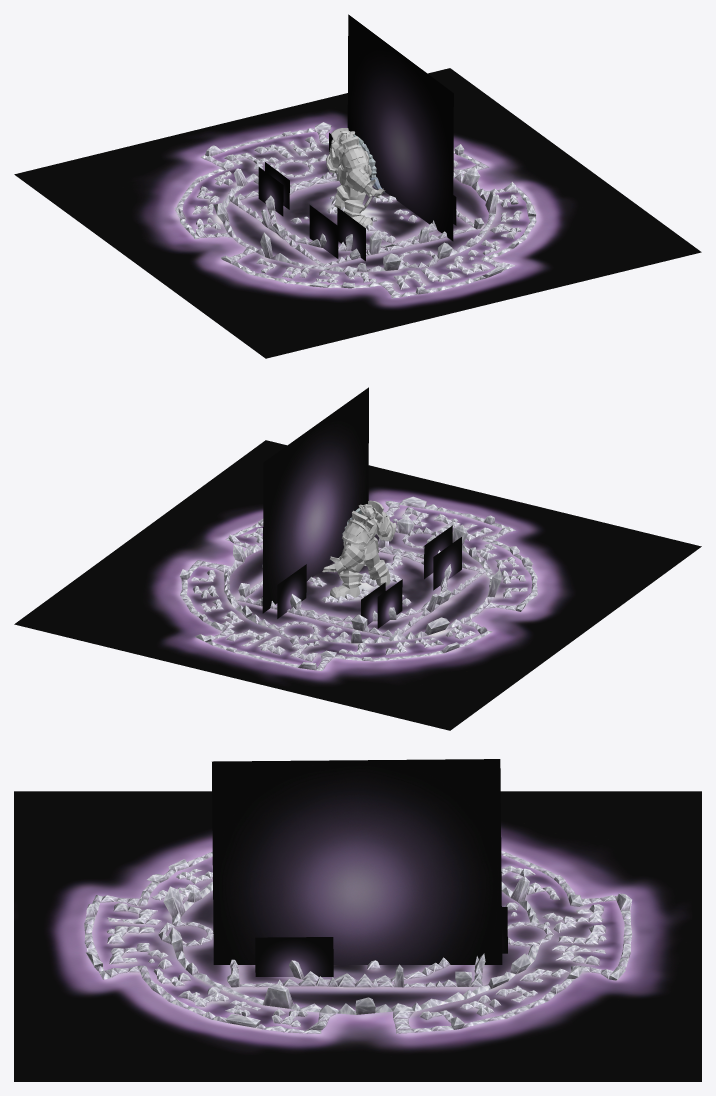
The model's file is magnibronzebeard_diamond.obj.
3 renders of one model, top to bottom at view 1: azimuth 30°, elevation 25°; view 2: azimuth 150°, elevation 25°; view 3: azimuth 270°, elevation 25°, orthographic. The views are drawn at different scales.
Visible parts, largest first — view 1: Geoset5, Geoset4, Geoset3, Geoset0, Geoset1; view 2: Geoset5, Geoset4, Geoset3, Geoset0, Geoset1; view 3: Geoset5, Geoset4, Geoset3.
Part boxes in pixels (x1,y1,x2,y2): Geoset5: (14,68,701,358); Geoset4: (258,14,456,261); Geoset3: (174,122,536,298); Geoset0: (329,131,385,227); Geoset1: (326,128,380,210); Geoset5: (14,440,701,730); Geoset4: (262,387,461,628); Geoset3: (180,496,537,670); Geoset0: (322,504,396,598); Geoset1: (334,500,395,579); Geoset5: (14,791,701,1081); Geoset4: (212,759,507,976); Geoset3: (84,851,632,1033).
Bounding box in the file's own units: 8.35 × 3.51 × 8.35.
